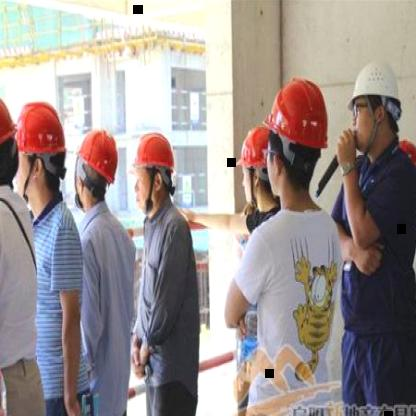helmet: (262, 78, 332, 154), (10, 92, 70, 162), (345, 53, 406, 116), (75, 128, 124, 188), (228, 119, 281, 174), (124, 132, 178, 178), (0, 88, 27, 155)
